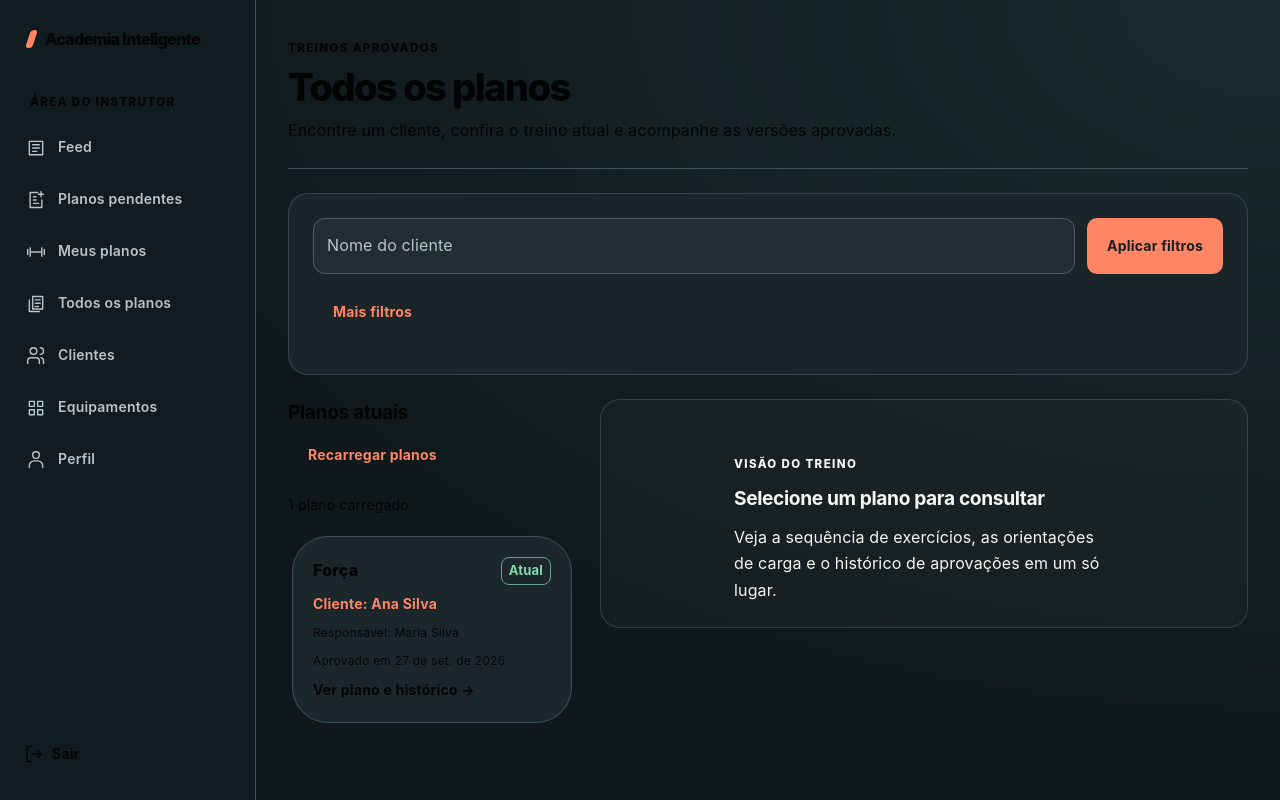
it: clears every applied filter and returns to the complete collection
Expected: the text "Cliente: Ana Silva" is shown, [313,595,437,612]
In the field labelled "Nome do cliente": (694, 246) [313,218,1075,274], type "Ana"
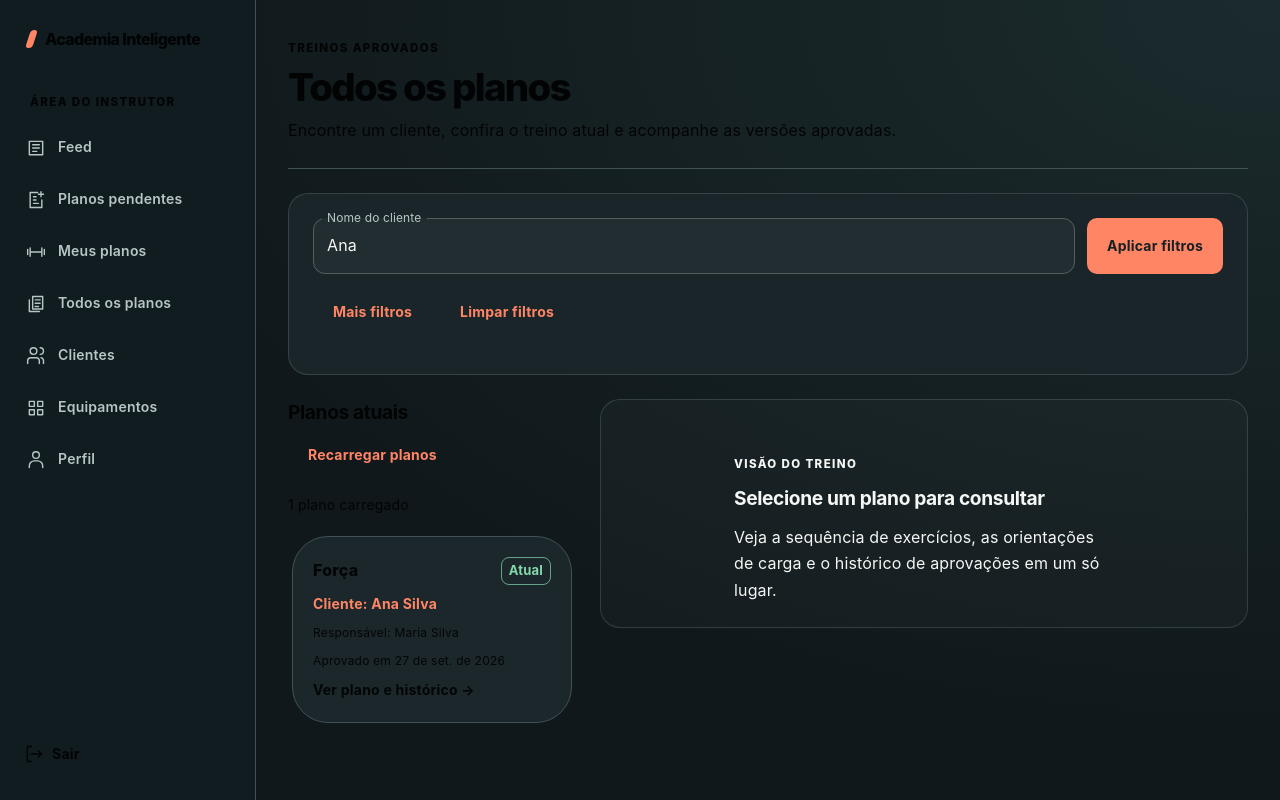
Click the button "Aplicar filtros": click(1155, 246) [1087,218,1223,274]
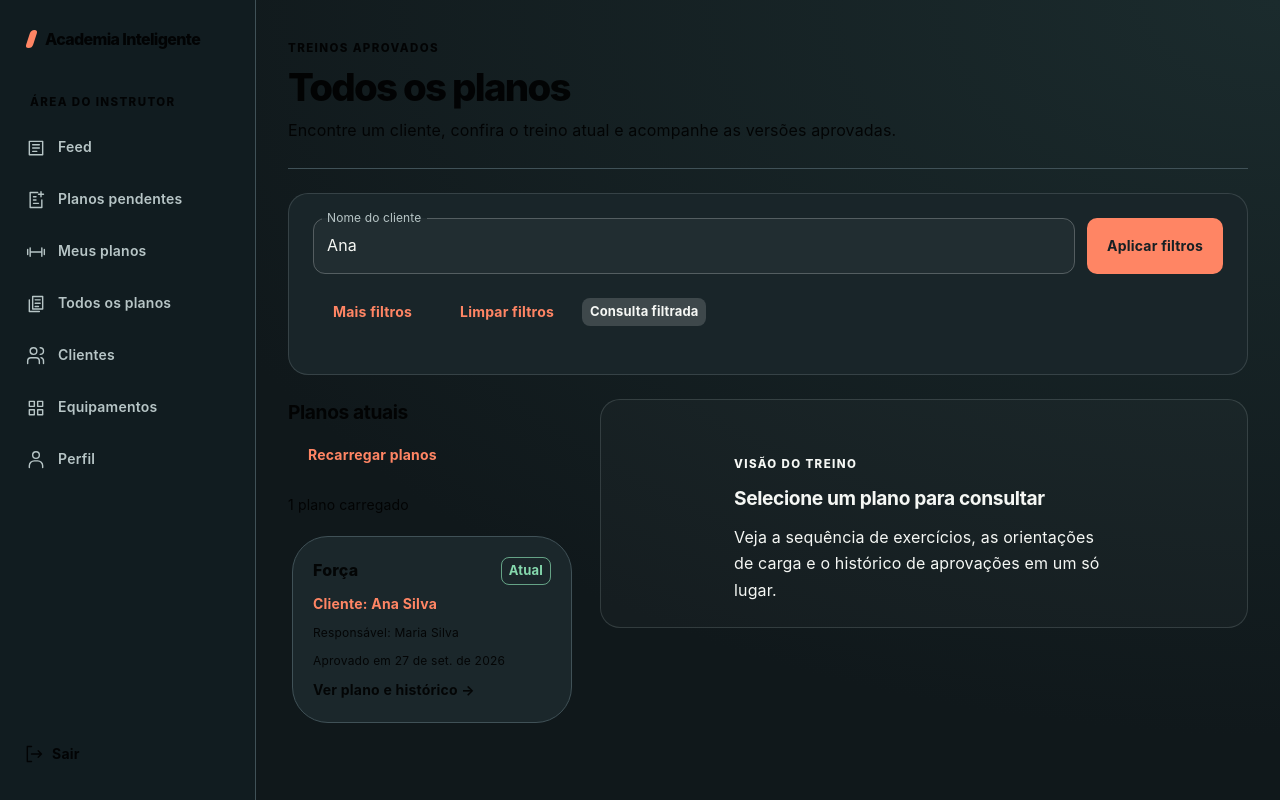
Expected: the text "Consulta filtrada" is shown, [582,299,706,325]
Click the button "Limpar filtros": click(507, 312) [440,290,574,334]
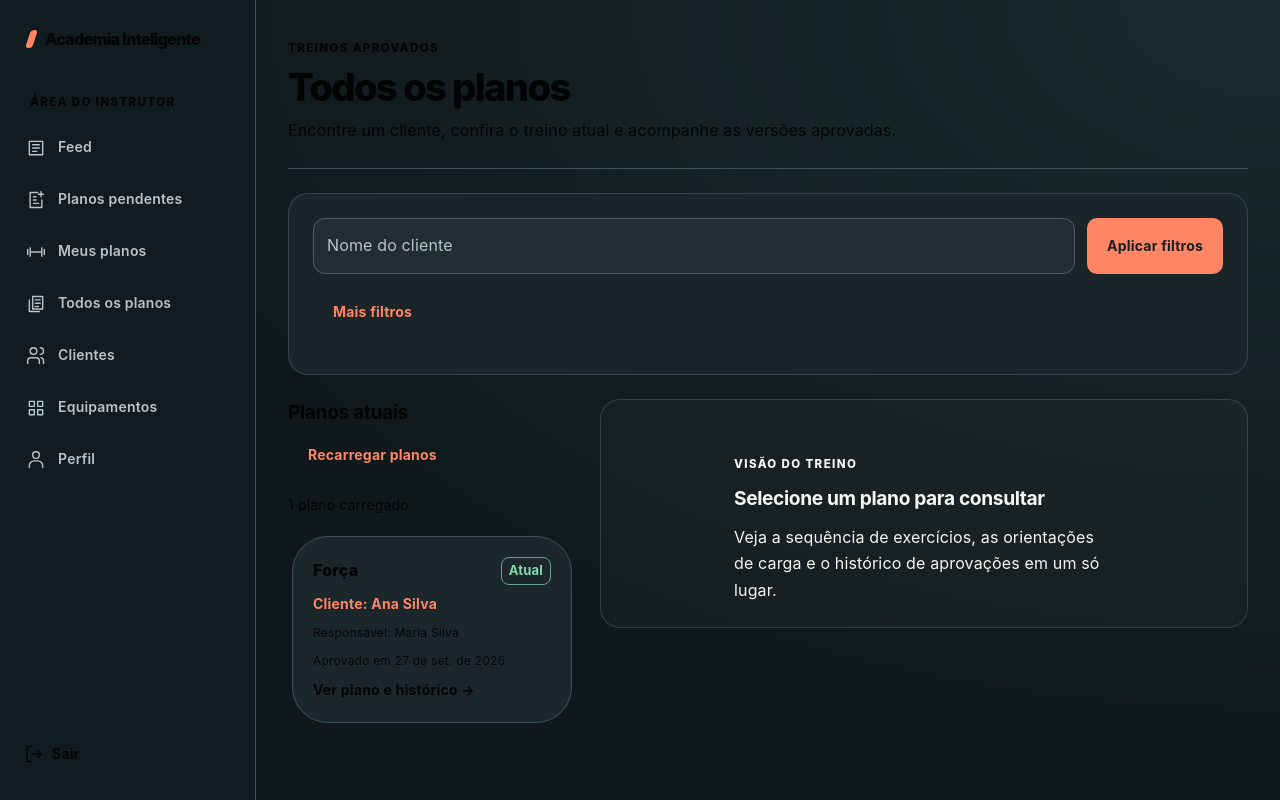
Expected: the text "Consulta filtrada" is gone
Expected: the field labelled "Nome do cliente" is empty, [313,218,1075,274]
